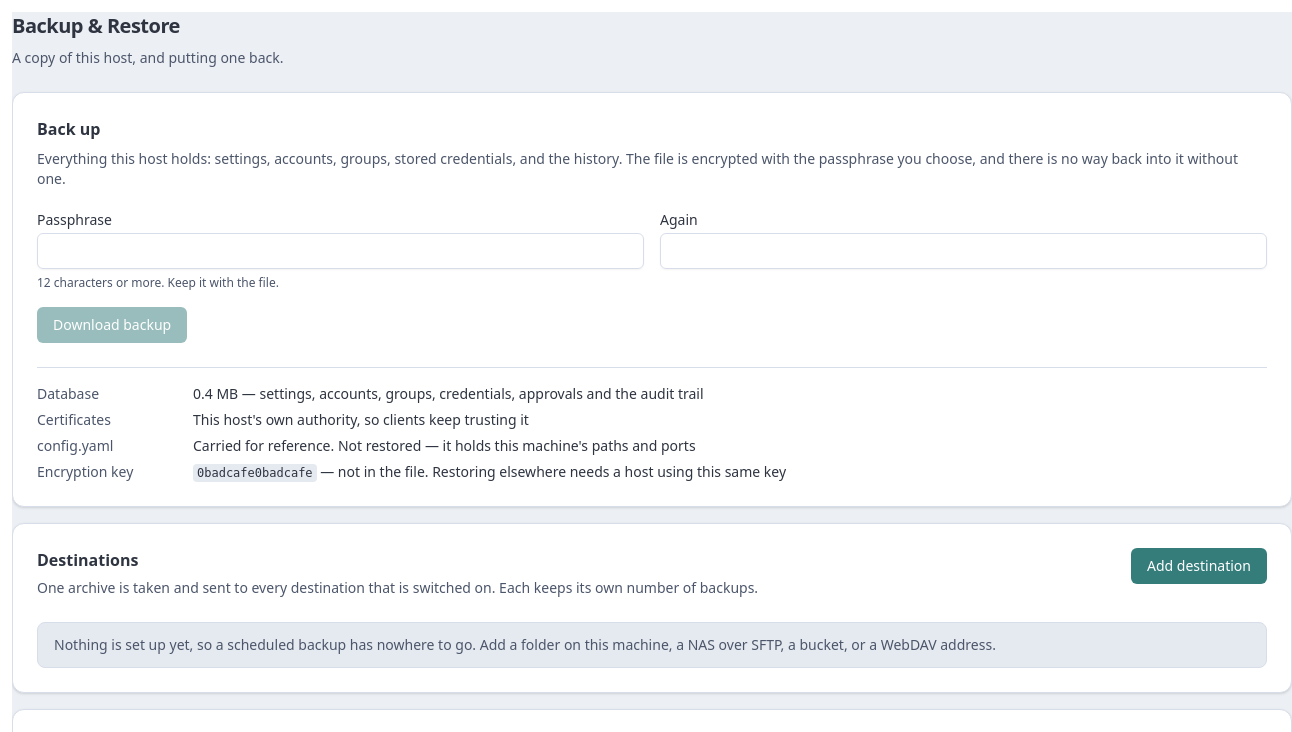
Scenario: the backup and restore page › will not take a backup until the passphrase is long enough and matches
Check: the button "Download backup" is disabled, box [37,307,187,343]
Type "short" into the password field labelled "Passphrase" at (340, 251), box [37,233,644,269]
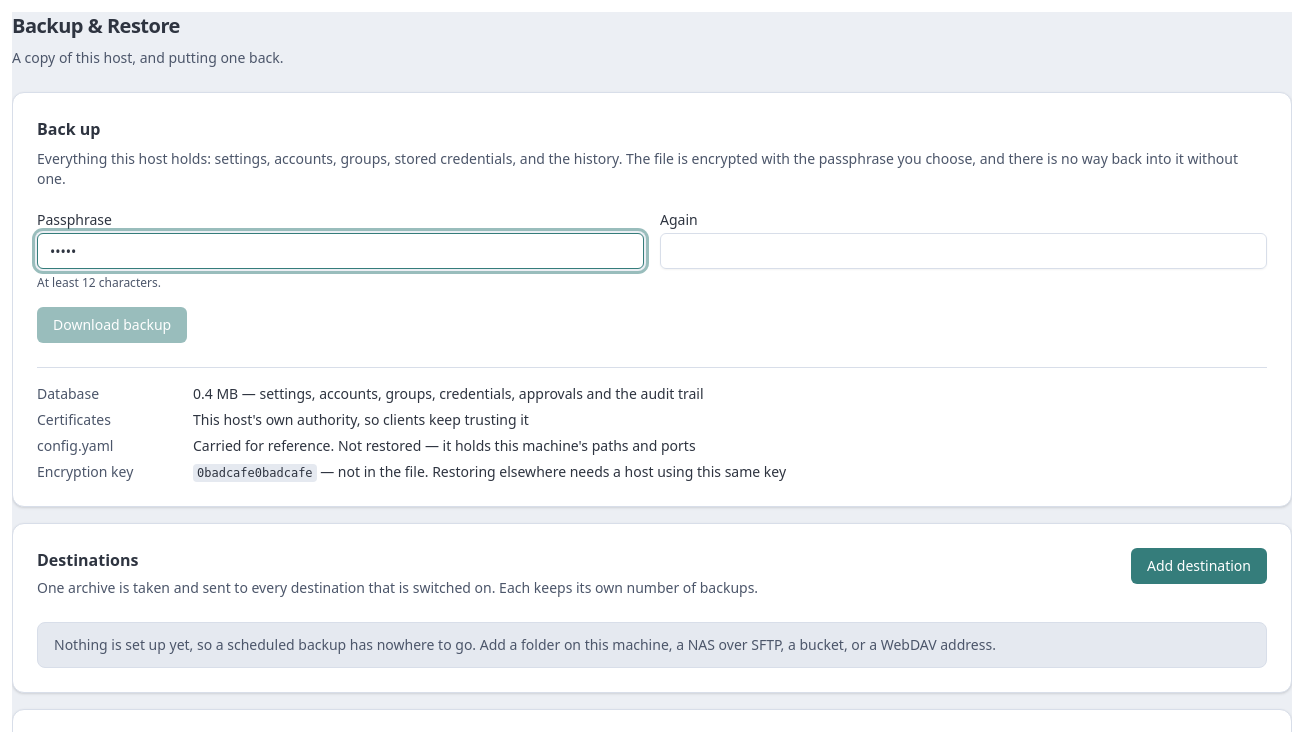
Check: the button "Download backup" is disabled, box [37,307,187,343]
Check: the text "At least 12 characters." is shown, box [37,274,161,291]
Type "a-long-enough-passphrase" into the password field labelled "Passphrase" at (340, 251), box [37,233,644,269]
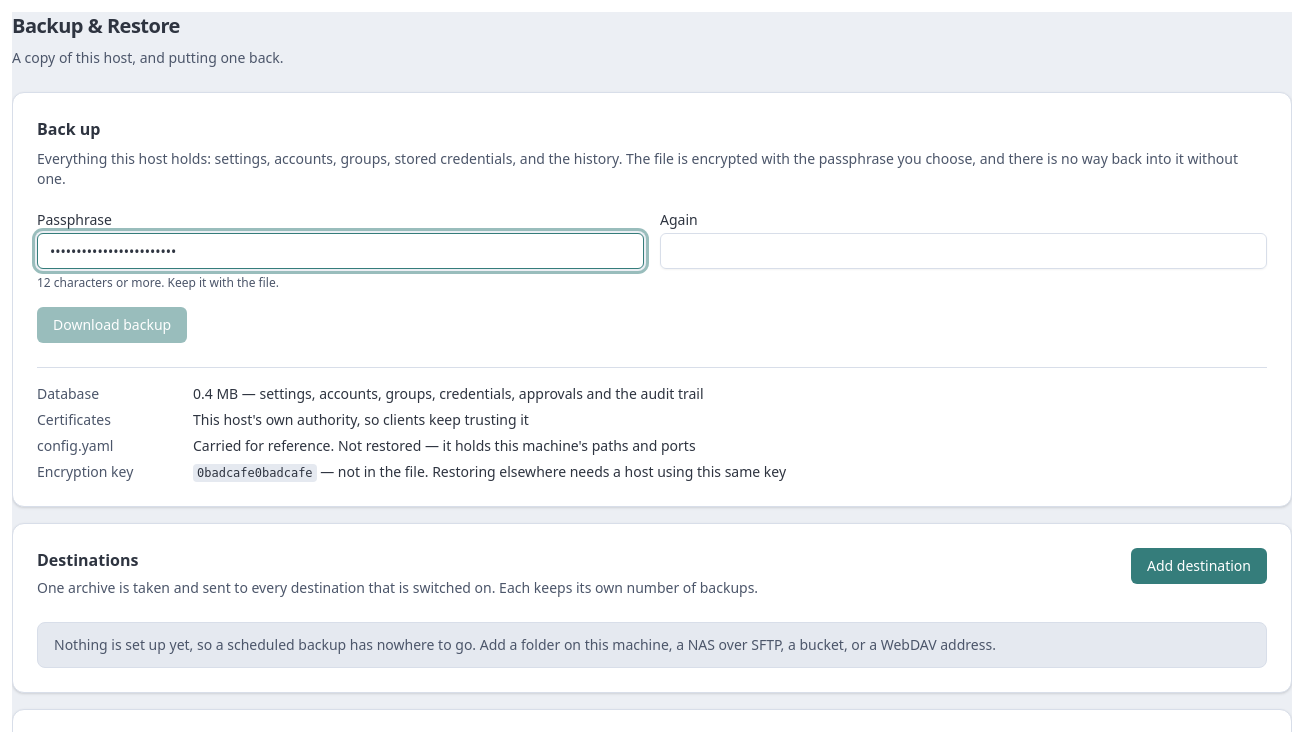
Check: the button "Download backup" is disabled, box [37,307,187,343]
Type "a-long-enough-passphras" into the password field labelled "Again" at (964, 251), box [660,233,1267,269]
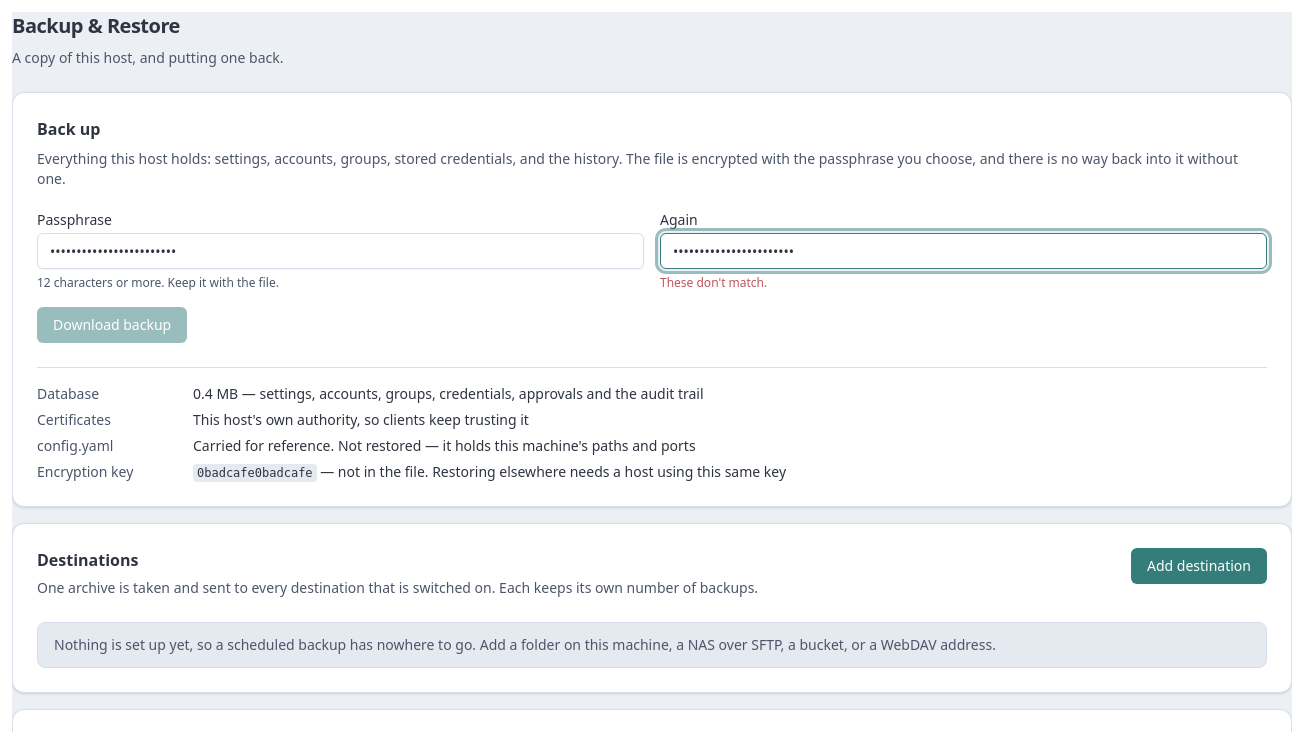
Check: the button "Download backup" is disabled, box [37,307,187,343]
Check: the text "These don't match." is shown, box [660,274,767,291]
Type "e" into the password field labelled "Again" at (964, 251), box [660,233,1267,269]
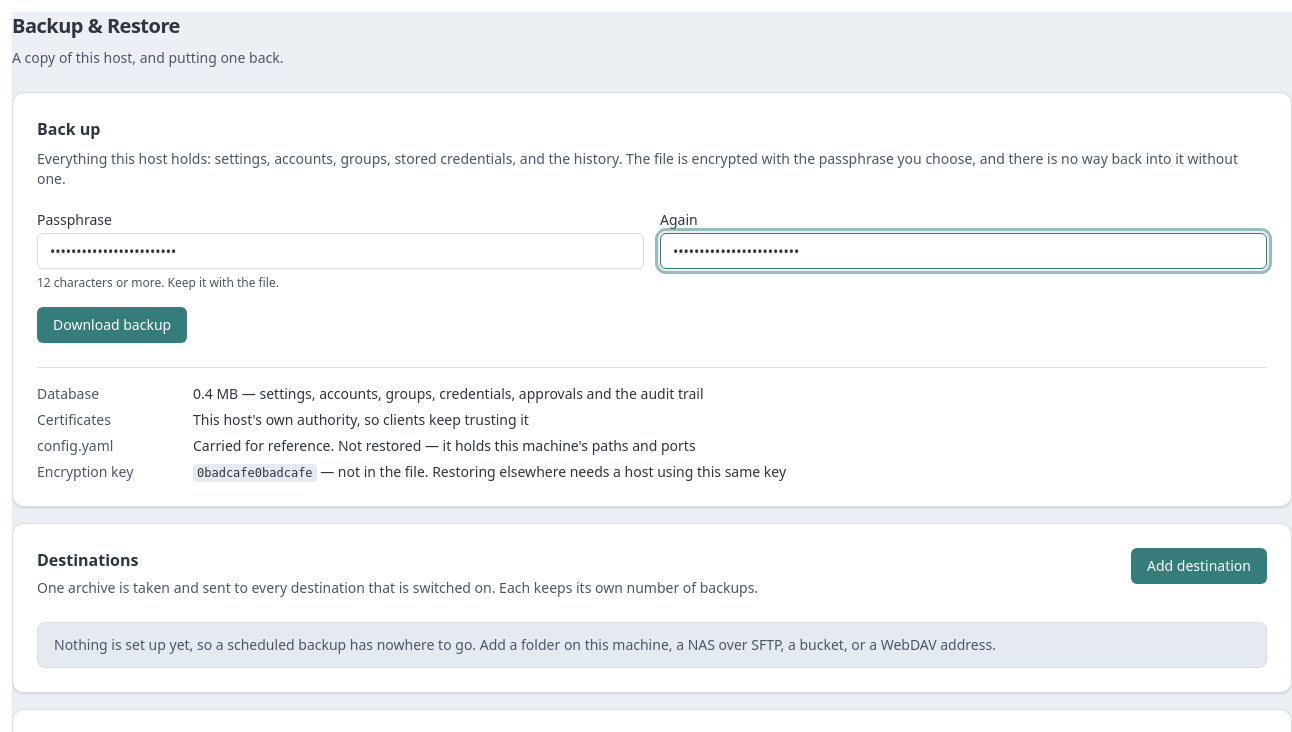
Check: the button "Download backup" is enabled, box [37,307,187,343]
